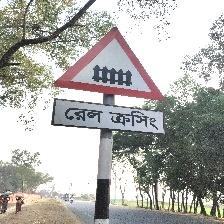Rail-crossing: (51, 26, 167, 135)
